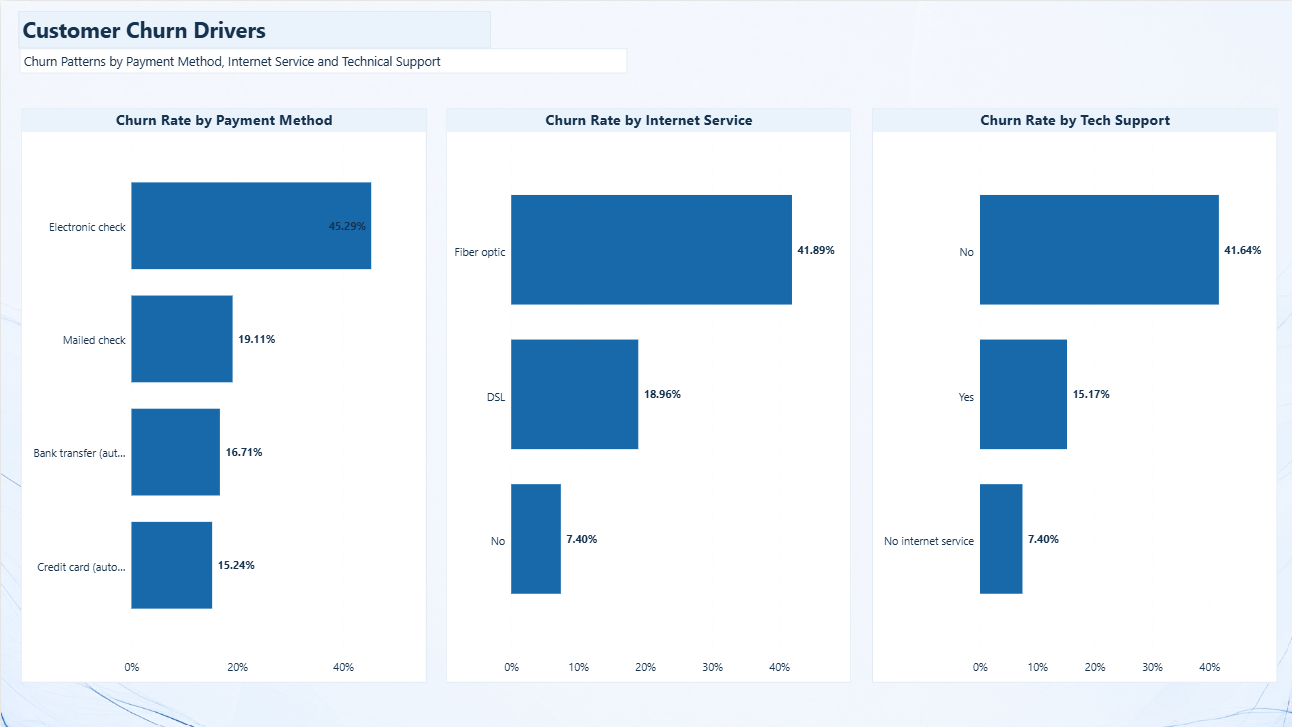

What the dashboard file says about the page in this screenshot:
{"tool":"powerbi","page":{"name":"Churn Drivers","canvas":[1920,1080],"ordinal":1},"visuals":[{"type":"textbox","box":[25,15,700,55],"z":0},{"type":"textbox","box":[27,70,900,37],"z":1},{"type":"clusteredBarChart","title":"Churn Rate by Payment Method","fields":{"Category":["Telco-Customer-Churn-Fixed.PaymentMethod"],"Y":["Telco-Customer-Churn-Fixed.Churn Rate"]},"box":[30,160,600.8,850],"z":2},{"type":"clusteredBarChart","title":"Churn Rate by Internet Service","fields":{"Category":["Telco-Customer-Churn-Fixed.InternetService"],"Y":["Telco-Customer-Churn-Fixed.Churn Rate"]},"box":[660,160,600,850],"z":3},{"type":"clusteredBarChart","title":"Churn Rate by Tech Support","fields":{"Category":["Telco-Customer-Churn-Fixed.TechSupport"],"Y":["Telco-Customer-Churn-Fixed.Churn Rate"]},"box":[1290,160,600,850],"z":4}]}

Visuals, with their boxes in screenshot pixels (x1, y1, x2, y2), scaled from the page's 1920x1080 canvas onto the 1292x727 screenshot:
textbox: region(17, 10, 488, 47)
textbox: region(18, 47, 624, 72)
"Churn Rate by Payment Method" clusteredBarChart: region(20, 108, 424, 680)
"Churn Rate by Internet Service" clusteredBarChart: region(444, 108, 848, 680)
"Churn Rate by Tech Support" clusteredBarChart: region(868, 108, 1272, 680)
